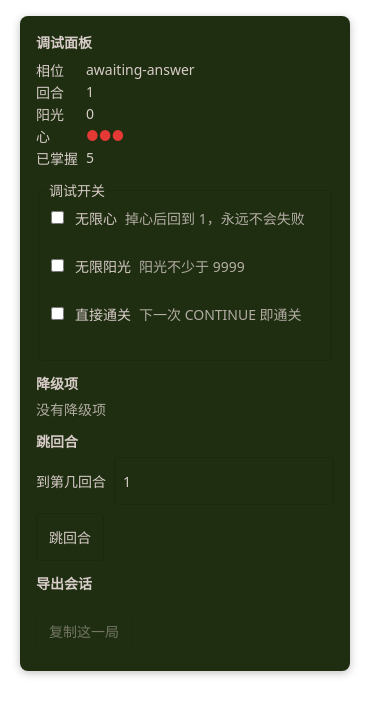
组 F —— 面板上的「跳到任意回合」（Story 1.17 / Task 7.1、AR40） › 跳不远时**不说到达**（未勾无限心 ⇒ 如实报「停在第几回合」）
Replace the text in the number field labelled "到第几回合" with "12" at x=224, y=481, box [114,457,334,505]
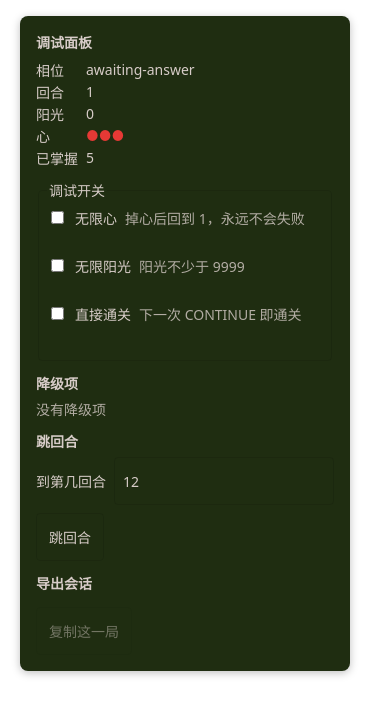
Click the button "跳回合".
click(70, 537)  # box [36,513,104,561]
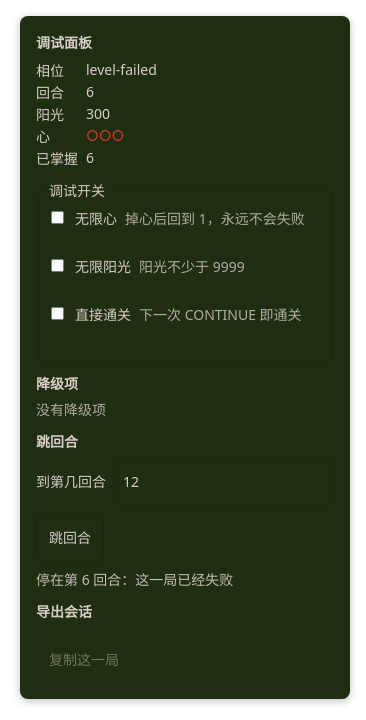
Now the text "停在第" is shown, box [36,570,233,589]
